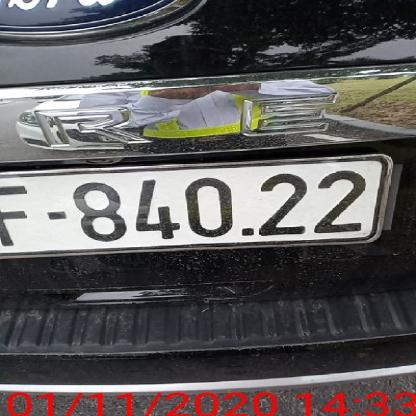biensoxe: (1, 170, 385, 244)
